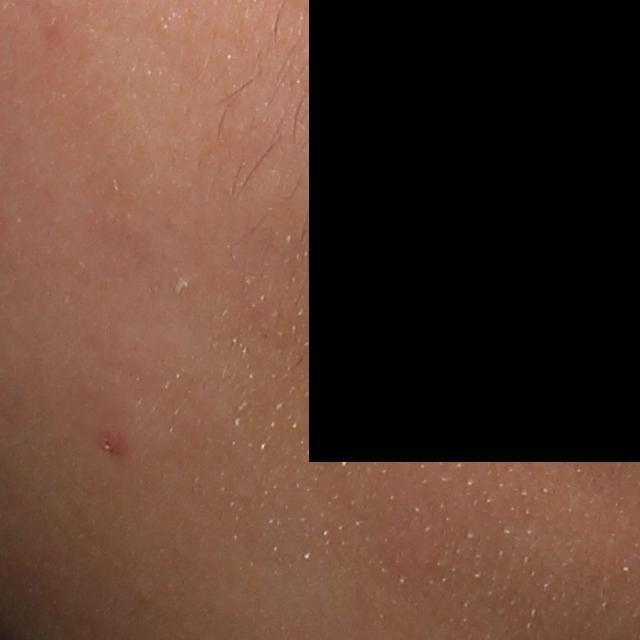papule: (96, 426, 131, 462)
